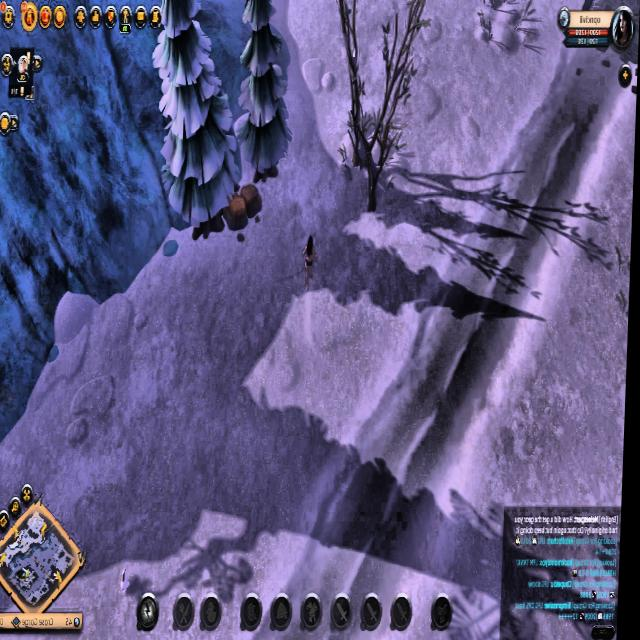limestone: (224, 181, 264, 239)
